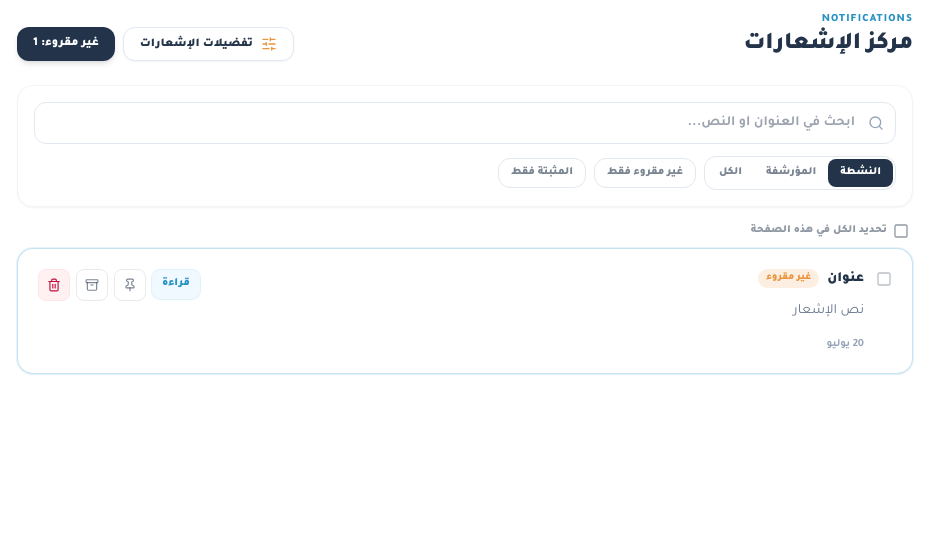
Scenario: NotificationsCenterPage — individual actions › archives a notification, which then removes it from the active view on refetch
This screenshot has width=931, height=542.
Expected: the text "عنوان" is shown, [827, 268, 864, 288]
Click the button named "أرشفة": x=92, y=284 [76, 268, 108, 300]
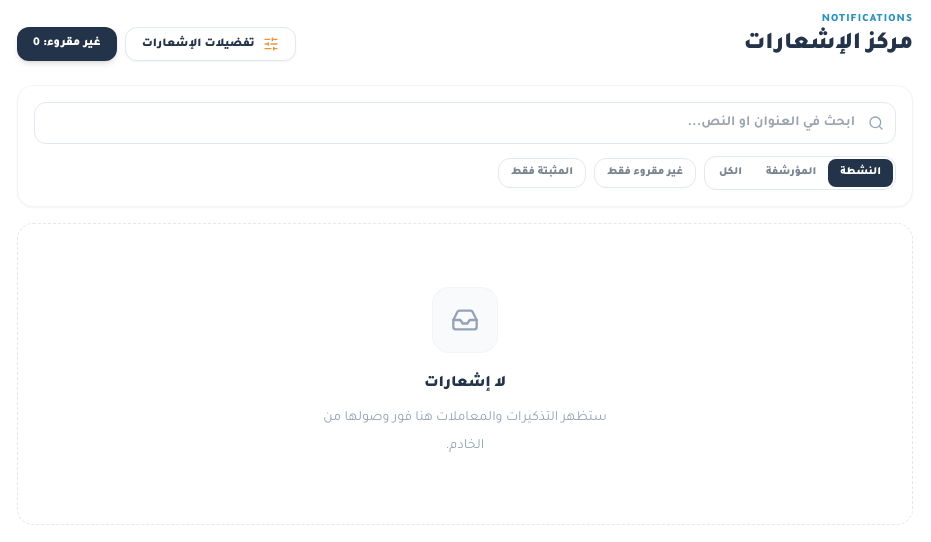
Expected: the heading "لا إشعارات" is shown, [424, 372, 506, 396]
